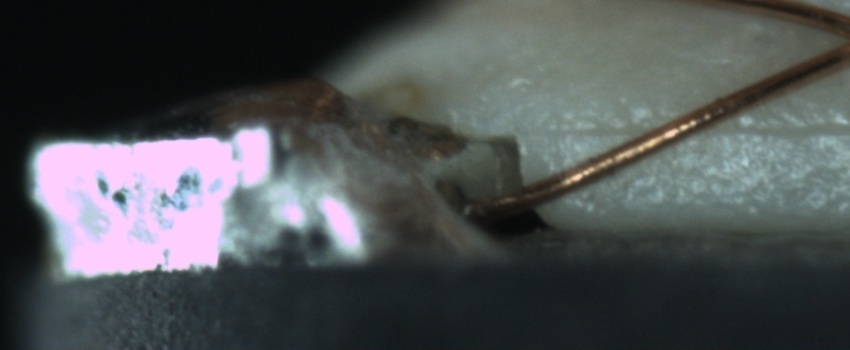CL: (833, 13, 850, 62)
DL: (547, 100, 845, 160)
